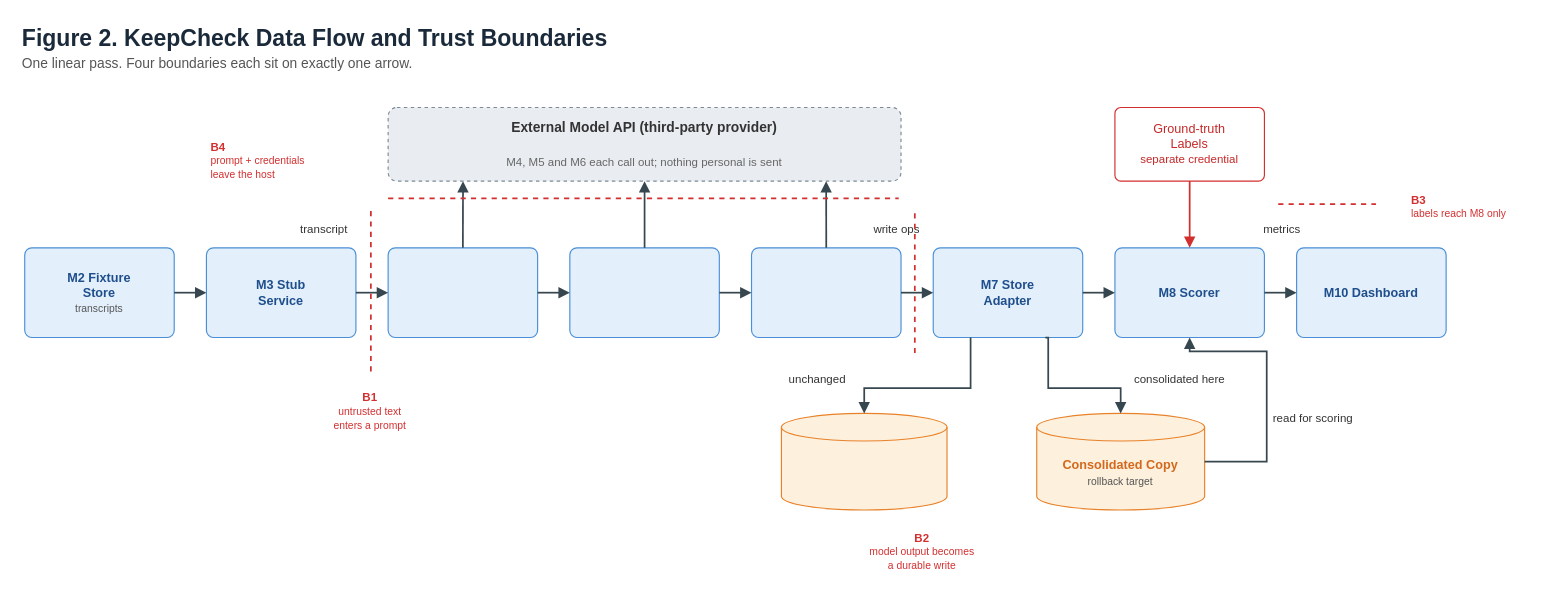
The diagram is 1555 pixels wide and 600 high, and some of its shapes have lost their labels. Here are the shapes that lost their labels. From the top down, the box of each, then its label:
(387, 247, 538, 338): M4 Extractor claims only
(569, 247, 719, 338): M5 Consolidator
(750, 247, 901, 338): M6 Pruner
(780, 412, 947, 510): Original Store append-only
